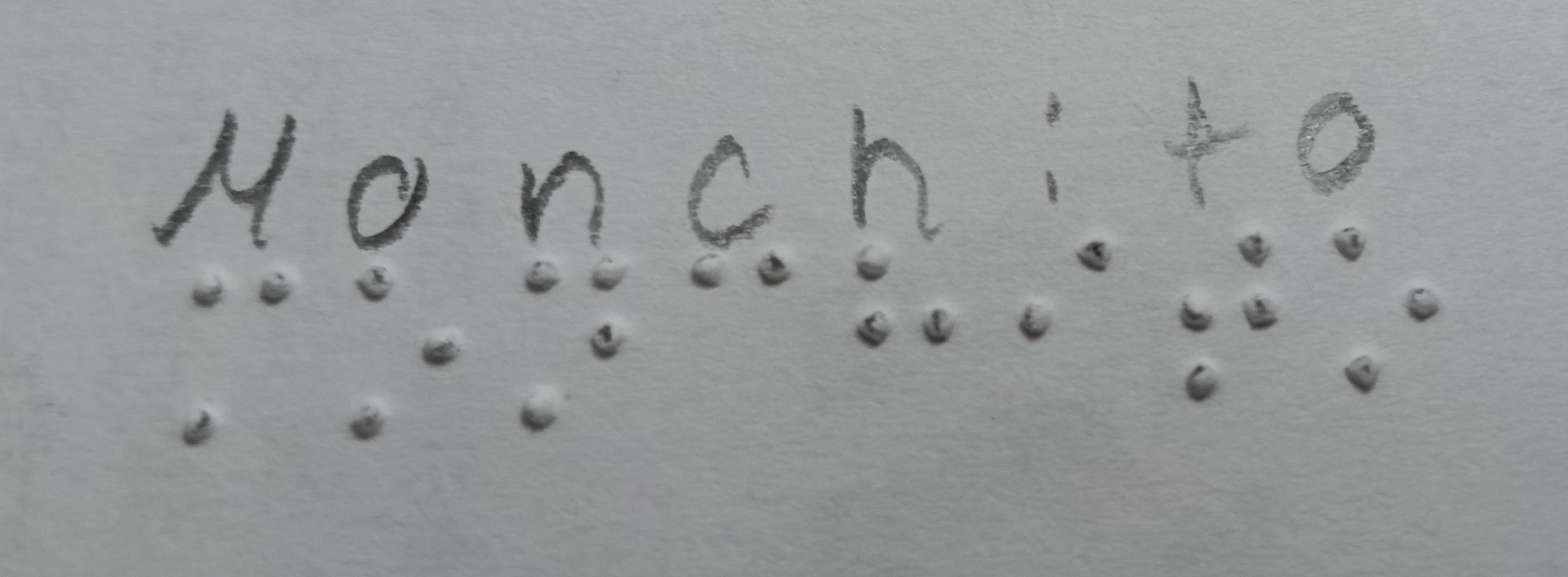c: (665, 240, 809, 323)
h: (815, 236, 964, 363)
i: (990, 231, 1125, 348)
m: (170, 251, 296, 458)
n: (480, 245, 656, 446)
o: (312, 254, 464, 451), (1308, 222, 1448, 401)
t: (1141, 231, 1300, 401)
